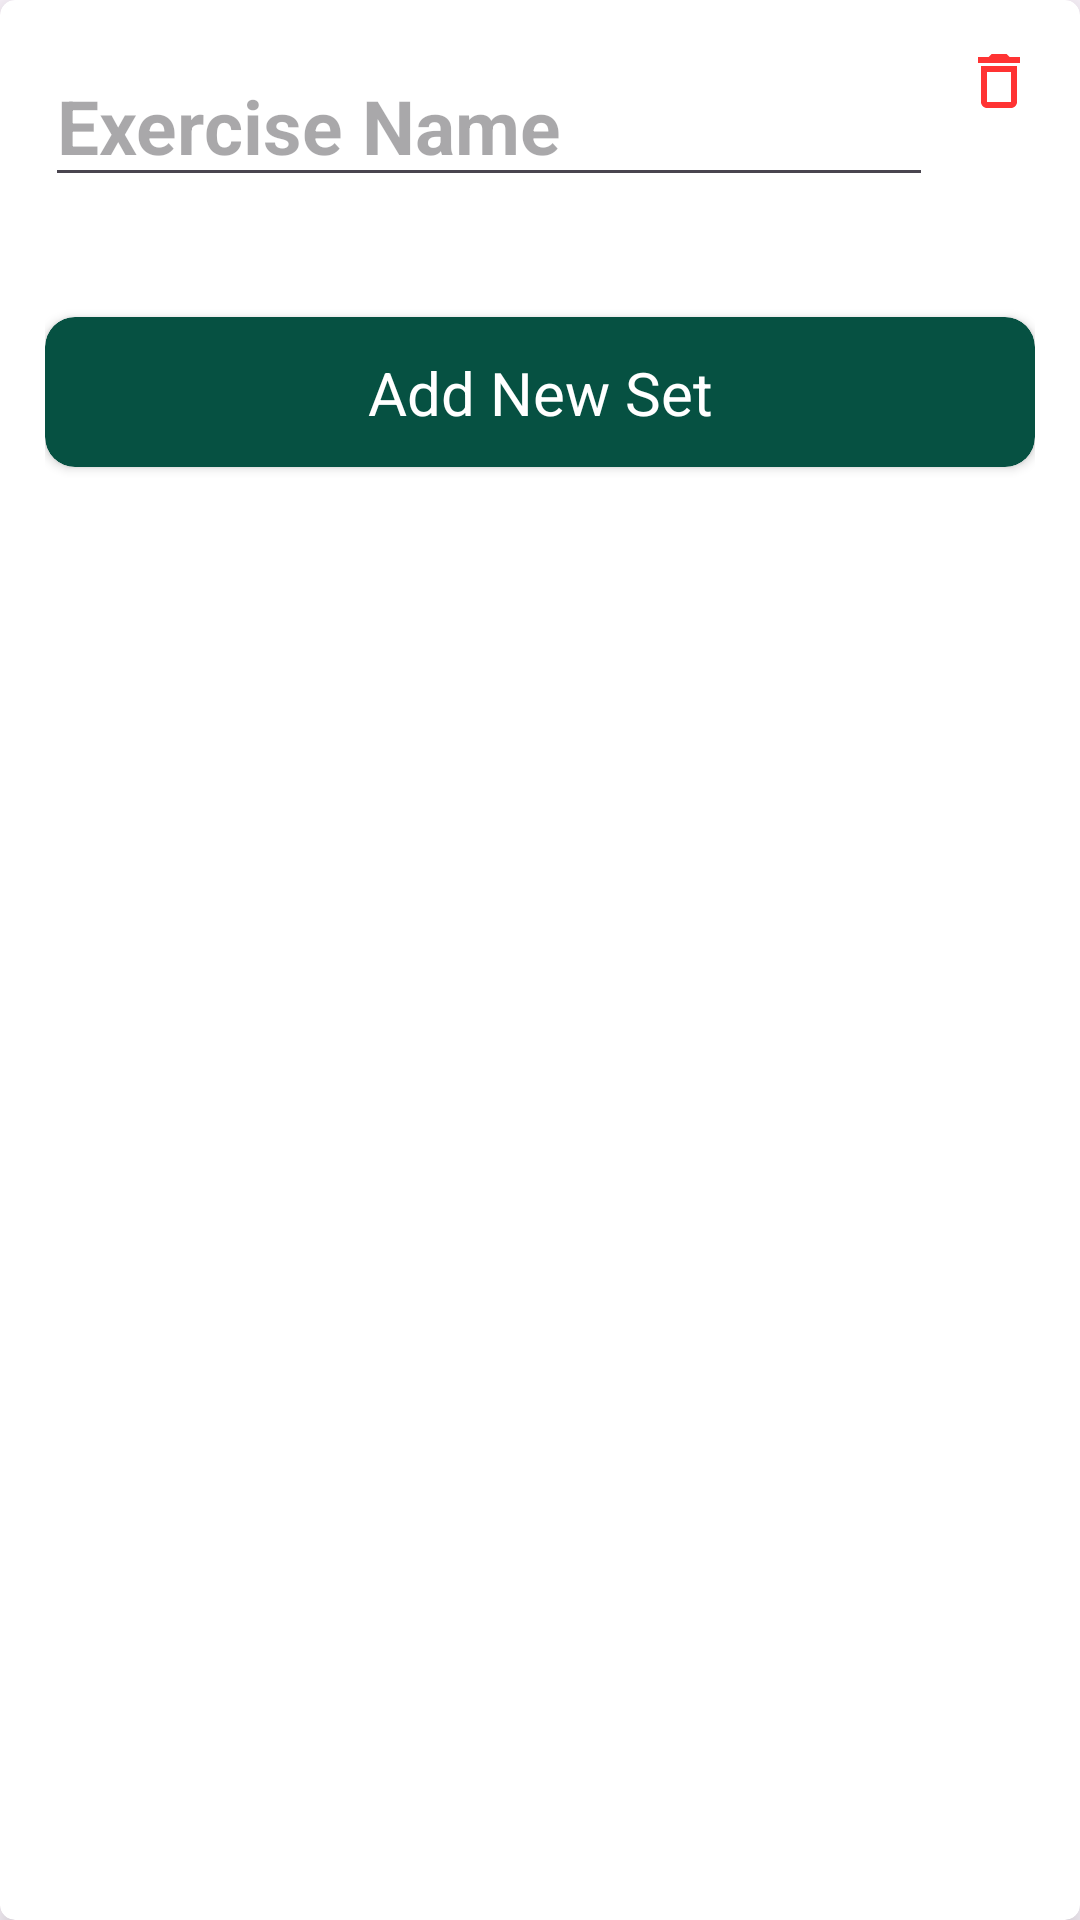

Icon bounding boxes for this 1080x1920 phone screenshot, format (x1,y1,x2,y2):
delete: (978,54,1020,108)
